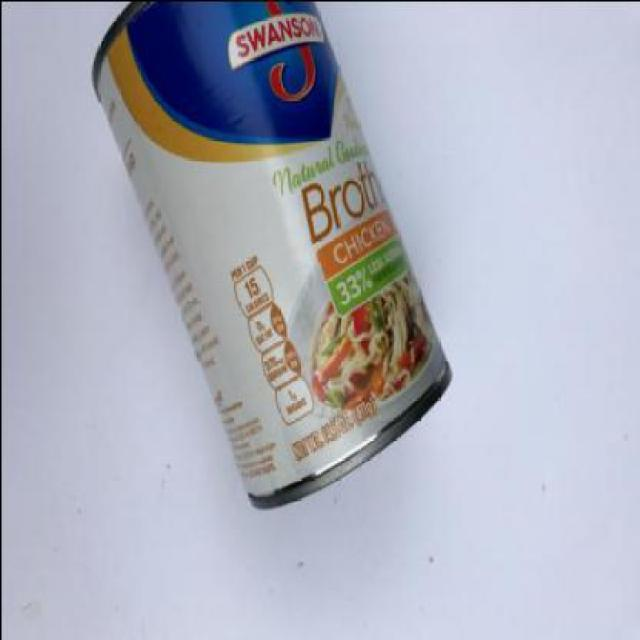METAL: (92, 2, 452, 506)
